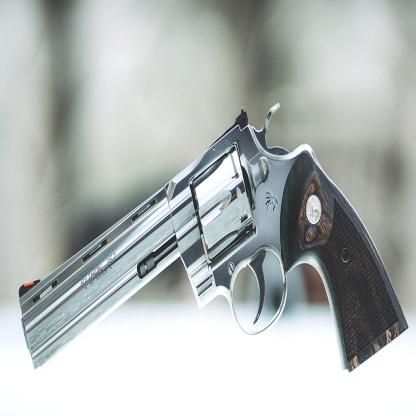handgun: (16, 94, 412, 377)
